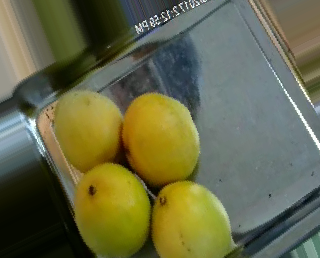Mango: (69, 160, 150, 254), (123, 94, 199, 185), (150, 181, 237, 256), (52, 90, 127, 168)
